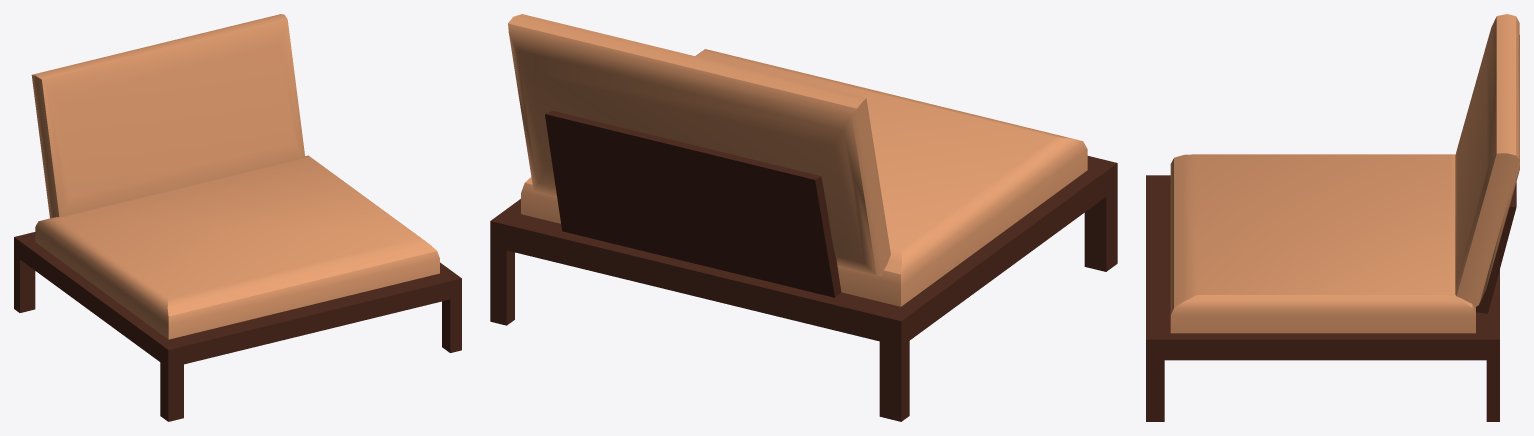
The model's file is GarOneSeat.fbx.
3 views of the same model, side by side, from view 1: azimuth 30°, elevation 25°; view 2: azimuth 150°, elevation 25°; view 3: azimuth 270°, elevation 25° (orthographic). The views are drawn at different scales.
Visible parts, largest first — view 1: OneSeat; view 2: OneSeat; view 3: OneSeat.
Boxes of the visible parts, x1,y1,x2,y2 form: OneSeat: (14, 14, 461, 421); OneSeat: (490, 14, 1117, 421); OneSeat: (1146, 14, 1519, 421).
Size of the model in its own units: 87.75 by 64.23 by 84.44.
